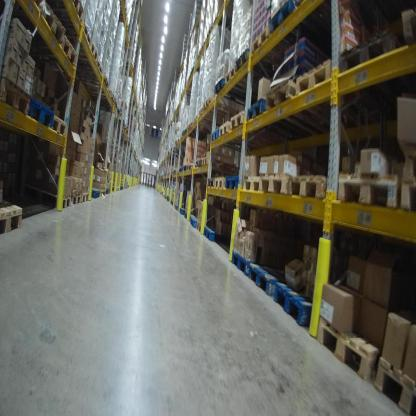pallet: (316, 310, 387, 389), (294, 56, 360, 135), (336, 22, 406, 94), (91, 89, 210, 130), (265, 83, 336, 137), (246, 97, 304, 146), (333, 171, 405, 208), (271, 280, 321, 330), (372, 356, 415, 411), (21, 31, 79, 71), (270, 0, 314, 48), (250, 27, 292, 72), (18, 177, 71, 211), (247, 262, 295, 298), (232, 48, 275, 87), (29, 3, 66, 42), (213, 76, 257, 108), (0, 74, 32, 118), (52, 15, 91, 47), (287, 172, 329, 201), (224, 65, 262, 93), (1, 195, 27, 233), (257, 169, 292, 197), (231, 247, 261, 278), (26, 96, 55, 127), (218, 119, 249, 146), (210, 126, 242, 152), (231, 110, 258, 138), (397, 138, 415, 177), (202, 154, 237, 174), (72, 39, 99, 63), (400, 3, 414, 49), (53, 0, 85, 20), (202, 97, 231, 119), (203, 225, 233, 245), (76, 53, 103, 75), (399, 176, 415, 211), (51, 109, 68, 137), (80, 71, 109, 86), (199, 106, 223, 124), (243, 173, 261, 194), (225, 174, 240, 193), (71, 191, 83, 207), (215, 177, 228, 190), (206, 174, 216, 187), (91, 187, 101, 200), (81, 190, 91, 202), (191, 216, 200, 228), (194, 158, 201, 170), (196, 222, 203, 232), (100, 187, 106, 196), (188, 162, 194, 171), (178, 206, 185, 213)
